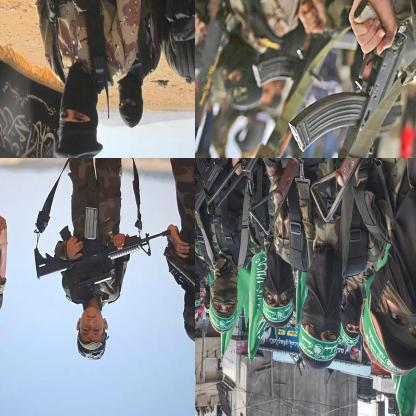rifle: (279, 0, 409, 157), (236, 33, 337, 157), (32, 203, 172, 288), (308, 158, 416, 224), (248, 158, 331, 238), (195, 158, 251, 256), (195, 19, 227, 157), (163, 241, 194, 336)
